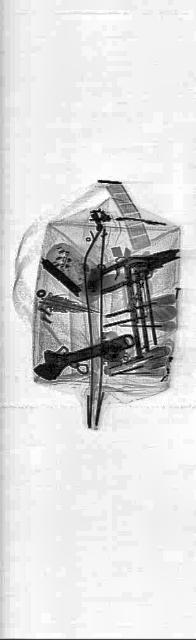Pliers: (118, 237, 180, 285)
Wrench: (32, 320, 134, 386)
